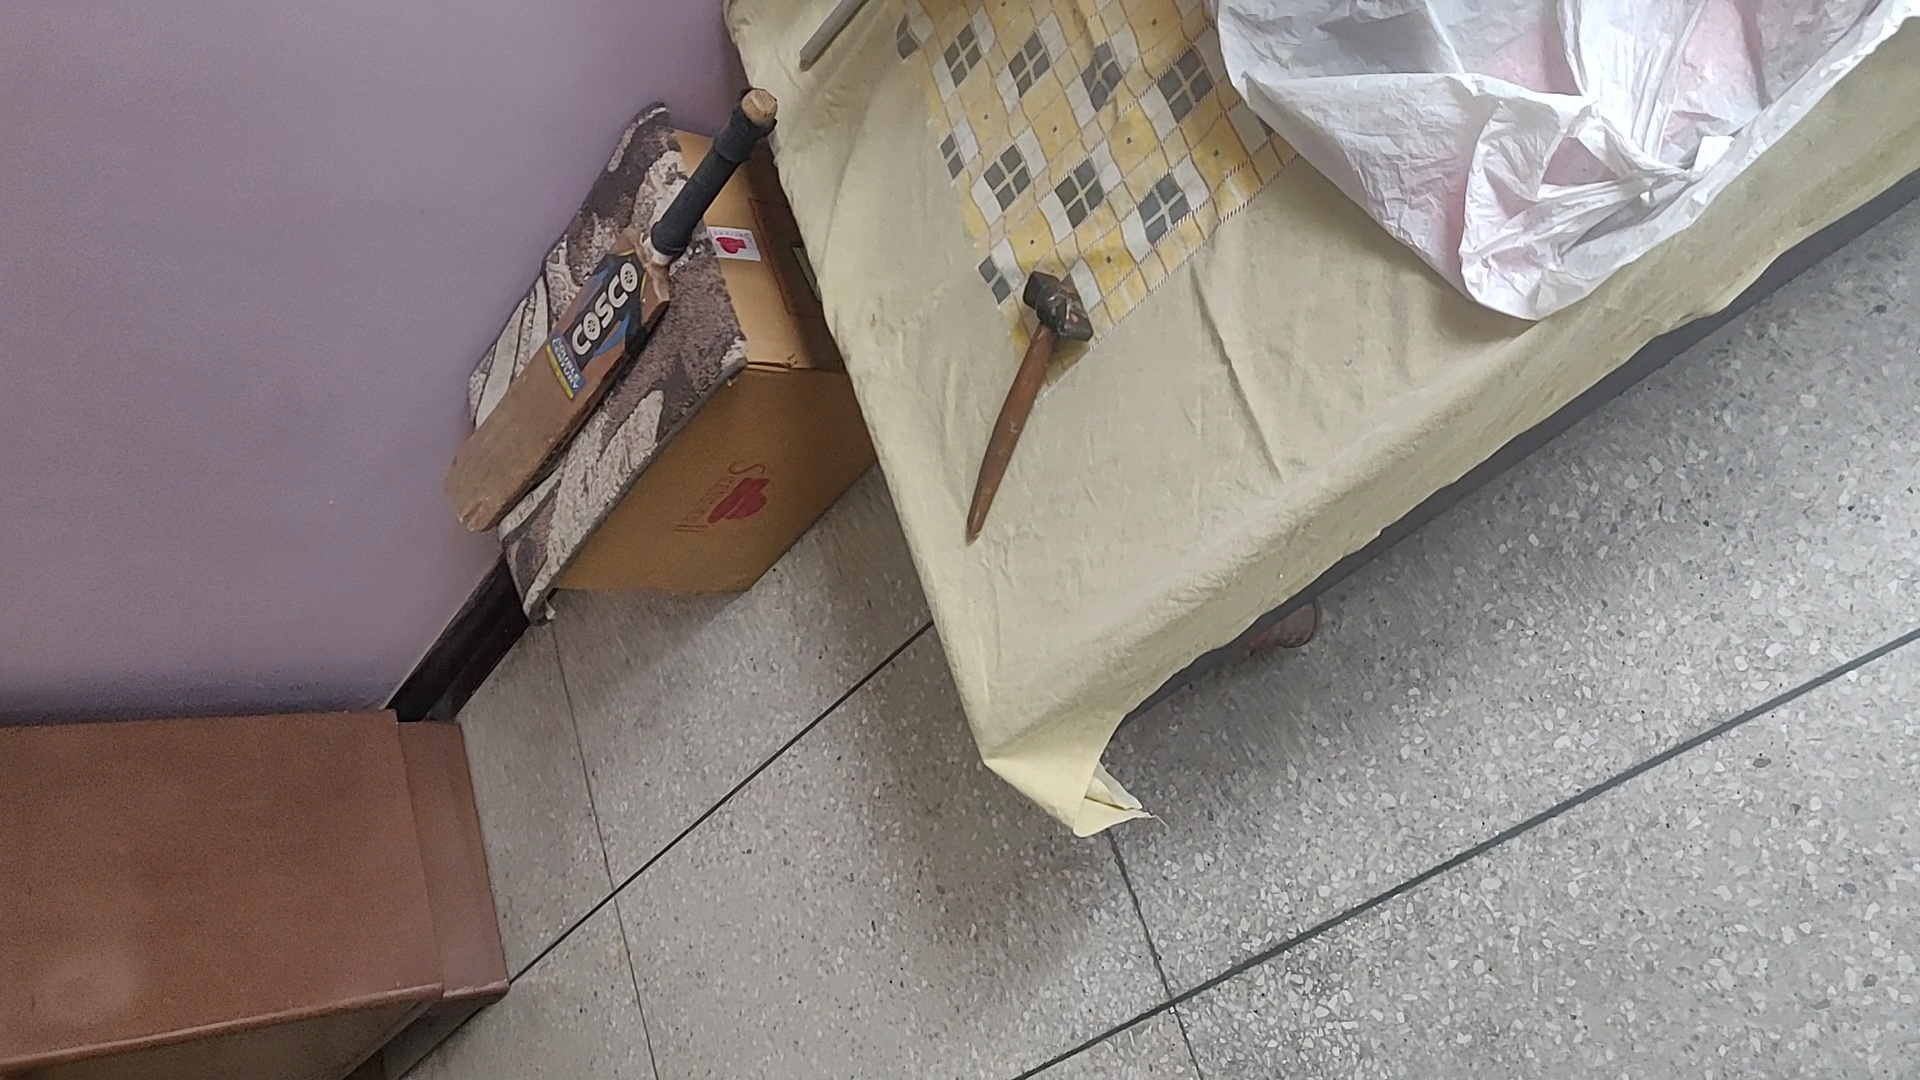hammer: (957, 268, 1095, 539)
